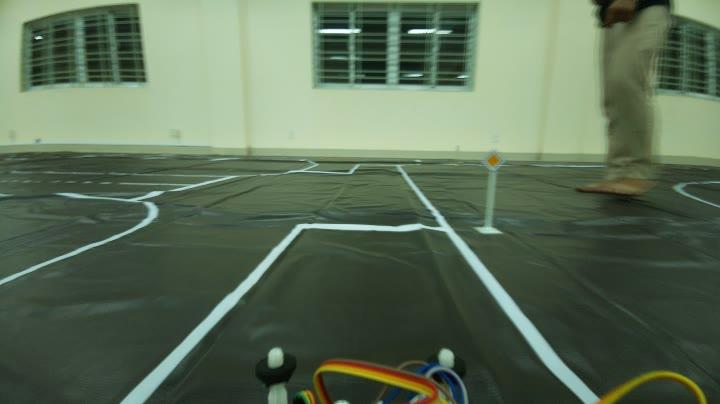priority: (480, 148, 507, 172)
